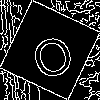O: (25, 25, 78, 82)
